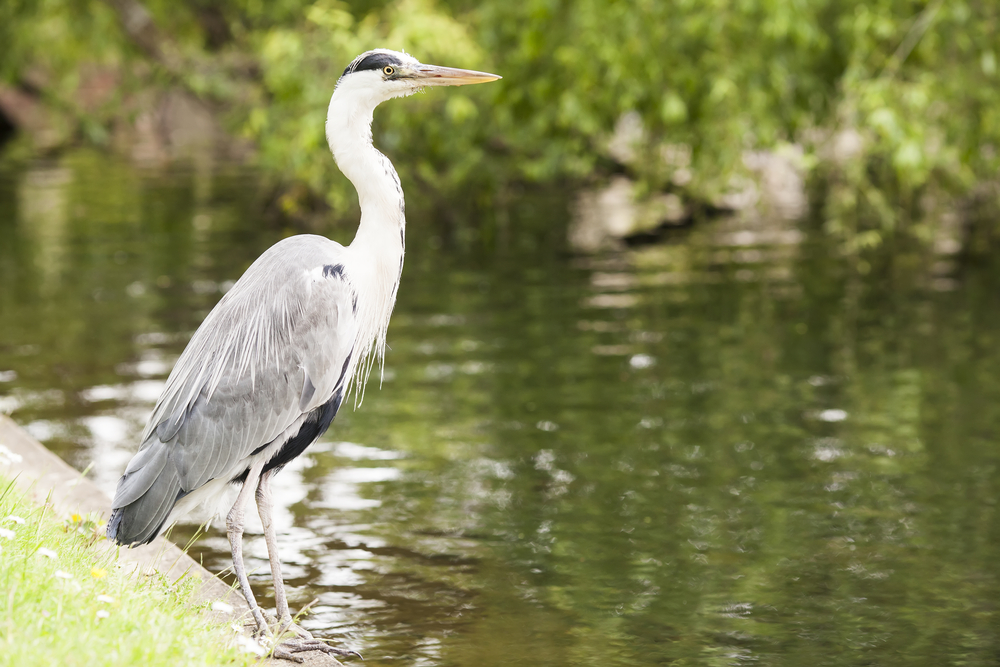heron: (114, 37, 510, 667)
